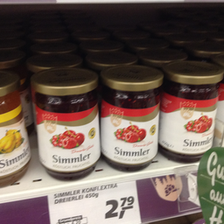jam: (29, 67, 102, 181), (100, 66, 165, 173), (159, 61, 224, 164)
